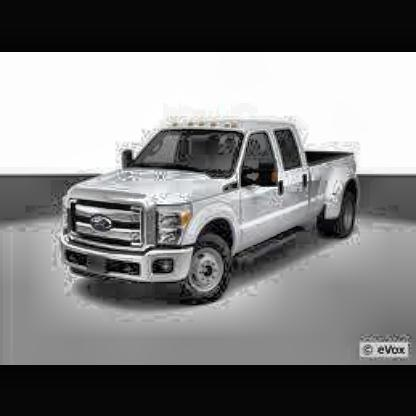Ford F-450 Super Duty Crew Cab 2012: (62, 121, 362, 302)
